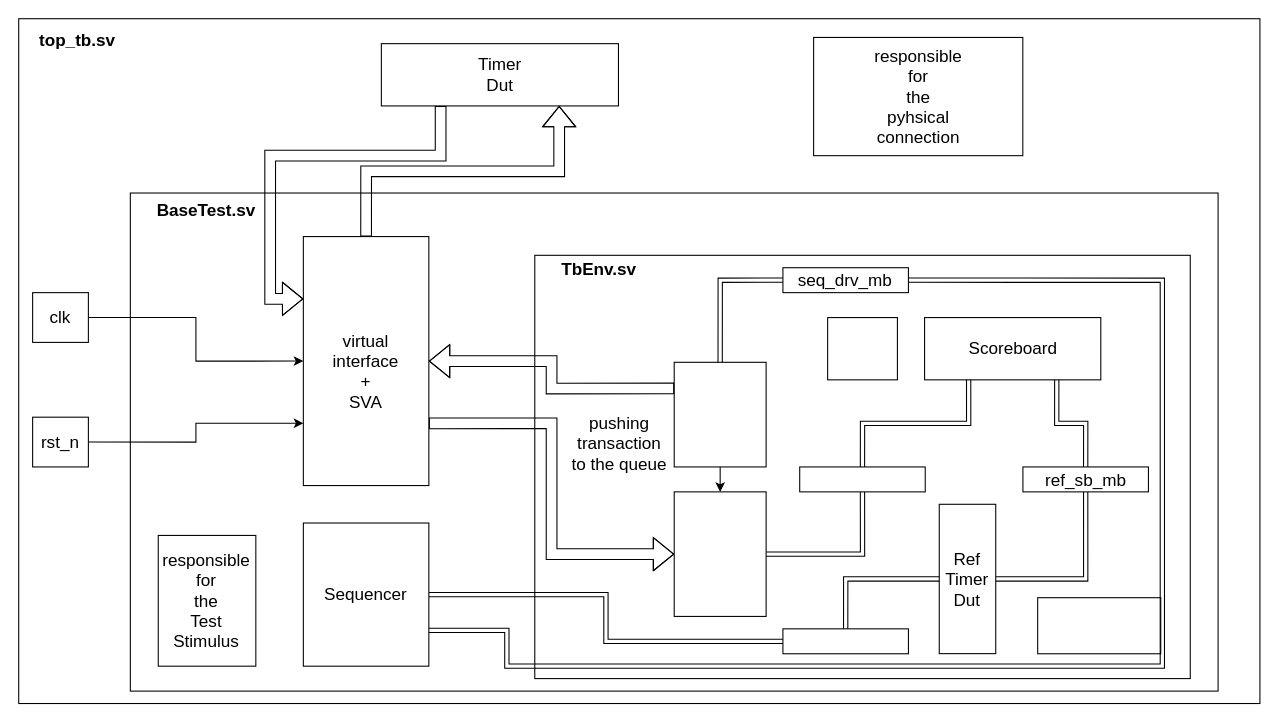
The diagram is 1279 pixels wide and 722 high, and some of its shapes have lost their labels. Each missing label, with the centre of its shape:
"Cov" belongs at (x=862, y=348).
"Driver & Mon_inst" belongs at (x=719, y=414).
"mon_sb_mb" belongs at (x=862, y=479).
"monitor & Con_inst" belongs at (x=719, y=553).
"resposible for the verification component" belongs at (x=1099, y=625).
"seq_ref_mb" belongs at (x=845, y=641).
